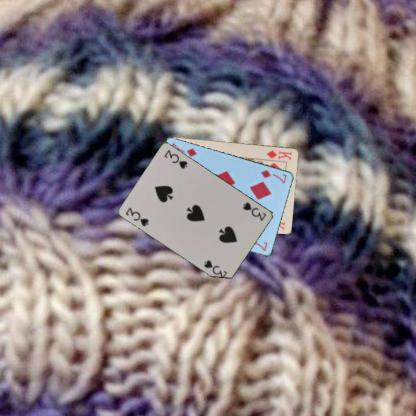3s: (123, 204, 150, 228), (240, 199, 268, 222)
7d: (259, 167, 288, 184)
Kd: (265, 147, 293, 161)
